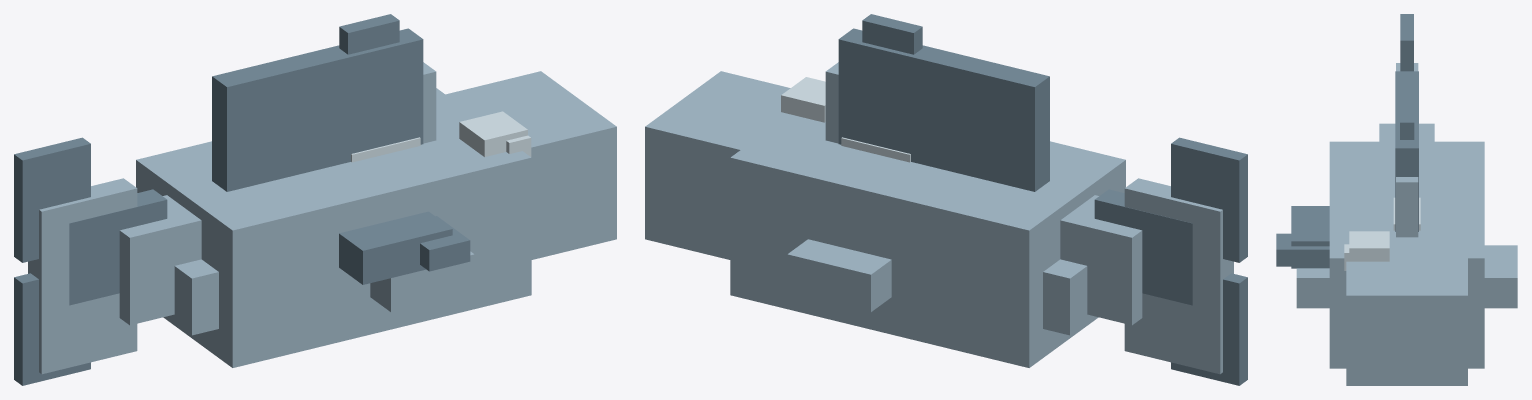
The model's file is fish_mist_sprat.glb.
3 renders of one model, left to right at view 1: azimuth 30°, elevation 25°; view 2: azimuth 150°, elevation 25°; view 3: azimuth 270°, elevation 25°, orthographic. The views are drawn at different scales.
Parts seen in each view (by area): view 1: FishArt_body, FishArt_dorsal, FishArt_tail, FishArt_pectoral, FishArt_eye, FishArt_specialty; view 2: FishArt_body, FishArt_dorsal, FishArt_tail, FishArt_eye, FishArt_specialty; view 3: FishArt_body, FishArt_pectoral, FishArt_dorsal, FishArt_eye, FishArt_tail.
Part boxes in pixels (x1,y1,x2,y2): FishArt_body: (28,62,616,374); FishArt_dorsal: (212,14,423,191); FishArt_tail: (14,137,167,385); FishArt_pectoral: (339,211,470,284); FishArt_eye: (459,111,531,156); FishArt_specialty: (351,137,420,162); FishArt_body: (645,62,1233,374); FishArt_dorsal: (838,14,1049,191); FishArt_tail: (1094,137,1247,385); FishArt_eye: (781,77,825,122); FishArt_specialty: (841,137,910,162); FishArt_body: (1296,63,1517,385); FishArt_pectoral: (1276,206,1329,268); FishArt_dorsal: (1395,71,1418,231); FishArt_eye: (1344,231,1389,270); FishArt_tail: (1400,14,1413,71).
Bounding box in the file's own units: 0.3091 × 0.1442 × 0.1439.
